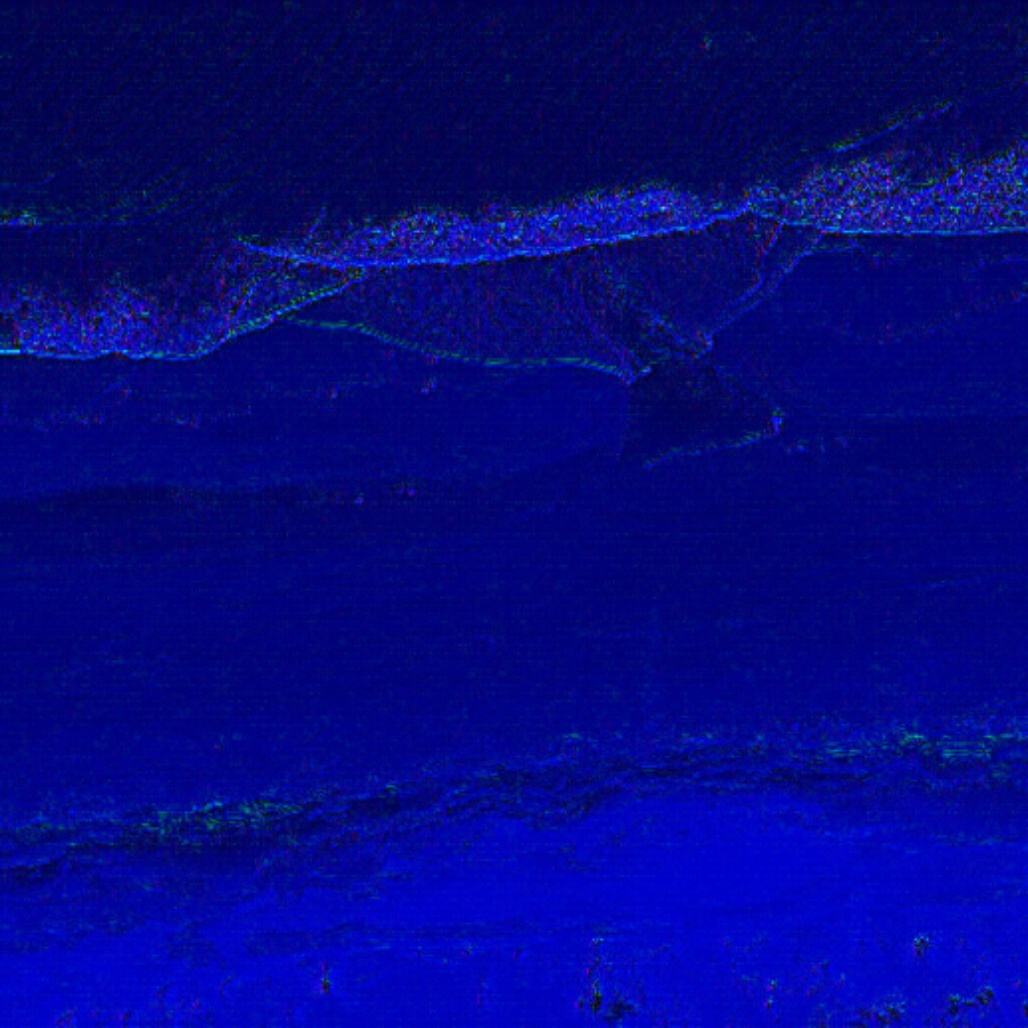rip_current: (506, 157, 725, 379)
